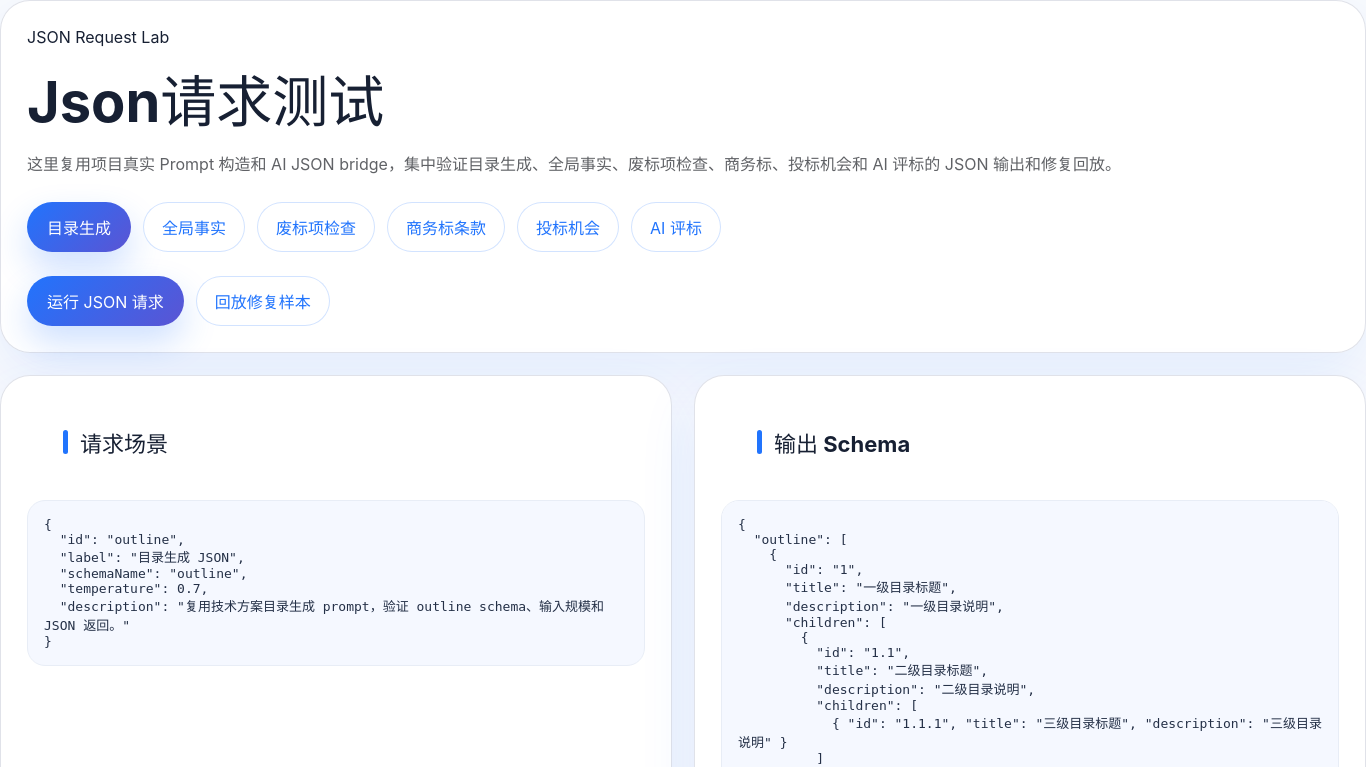
Scenario: DeveloperTestPage › switches to business bid clause extraction and shows clause schema
Click the tab "商务标条款" at {"x": 446, "y": 227}, box 387,202 -> 505,252
(page scrolled)
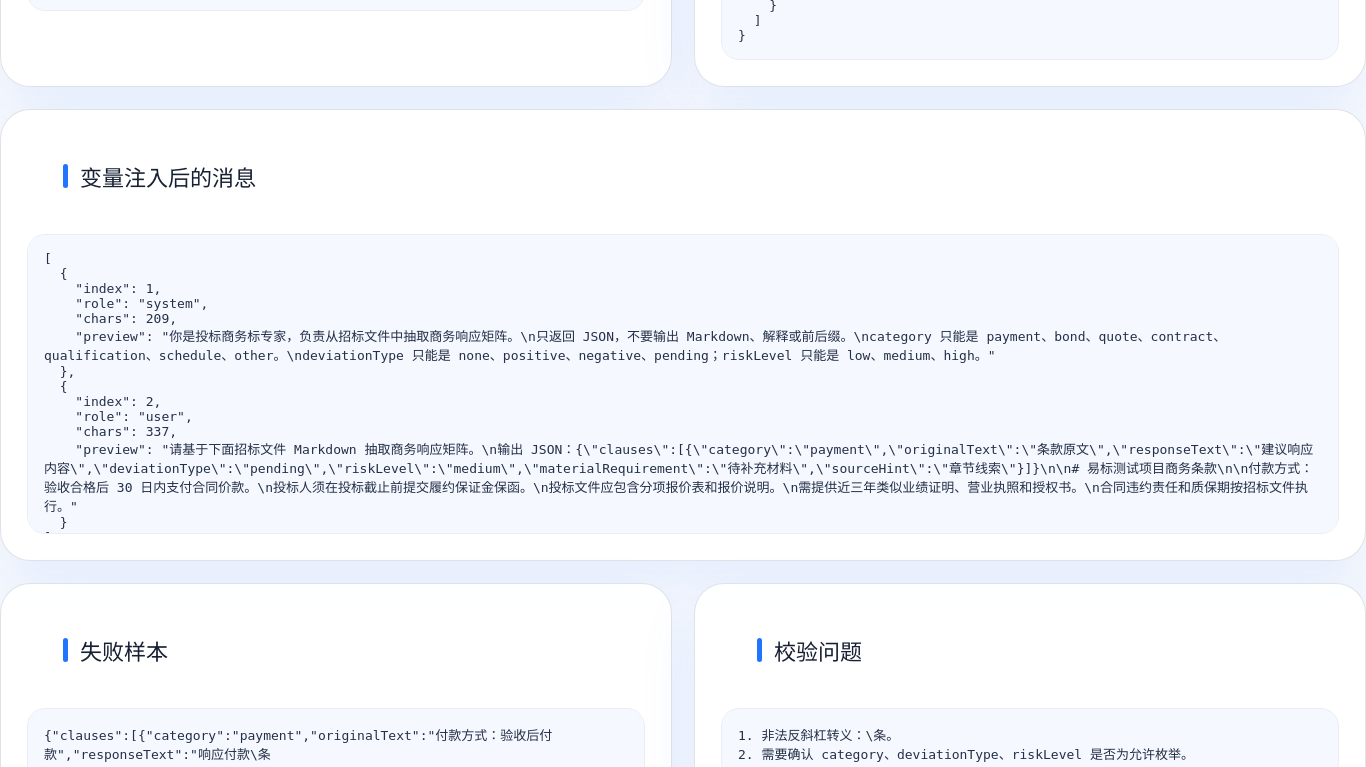
Expected: the text "投标人须在投标截止前提交履约保证金保函" is shown, 44,251 -> 1313,545
